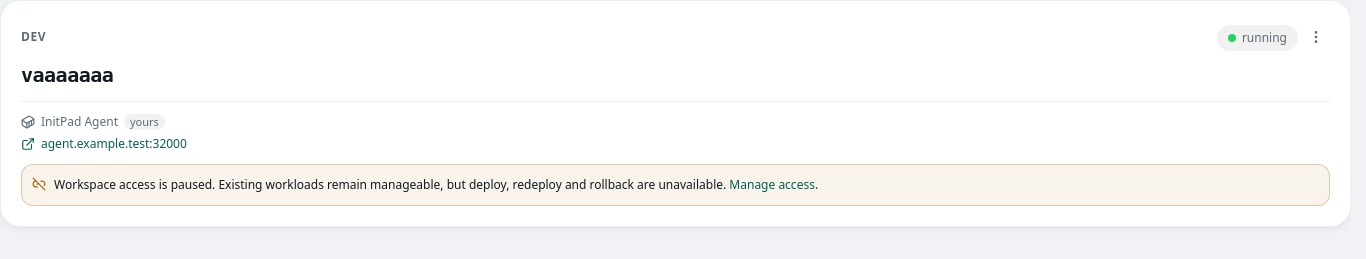
EnvironmentPipeline workspace access › keeps safe existing-workload controls but hides publication actions while paused
Click the button named "environment actions" at x=1316, y=37, box [1302, 23, 1330, 51]
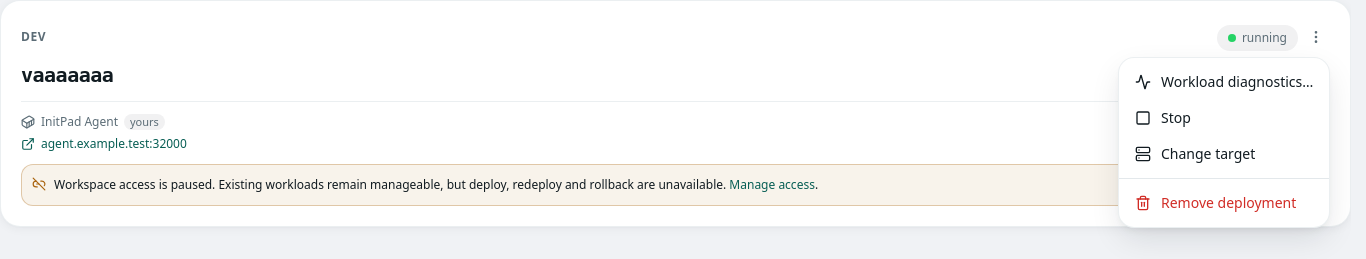
Result: the menu item "Stop" is shown at [1135, 108, 1191, 127]
Result: the menu item "Remove deployment" is shown at [1135, 193, 1296, 212]
Result: the menu item "Change target" is shown at [1135, 144, 1255, 163]
